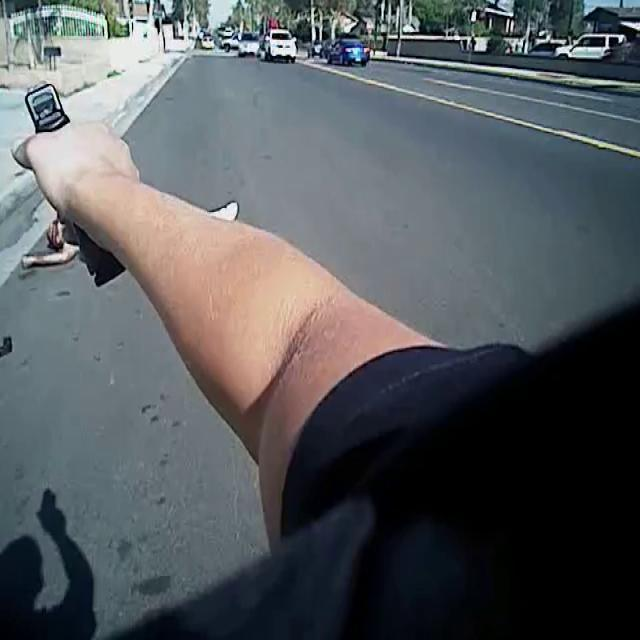gun: (7, 66, 161, 300)
